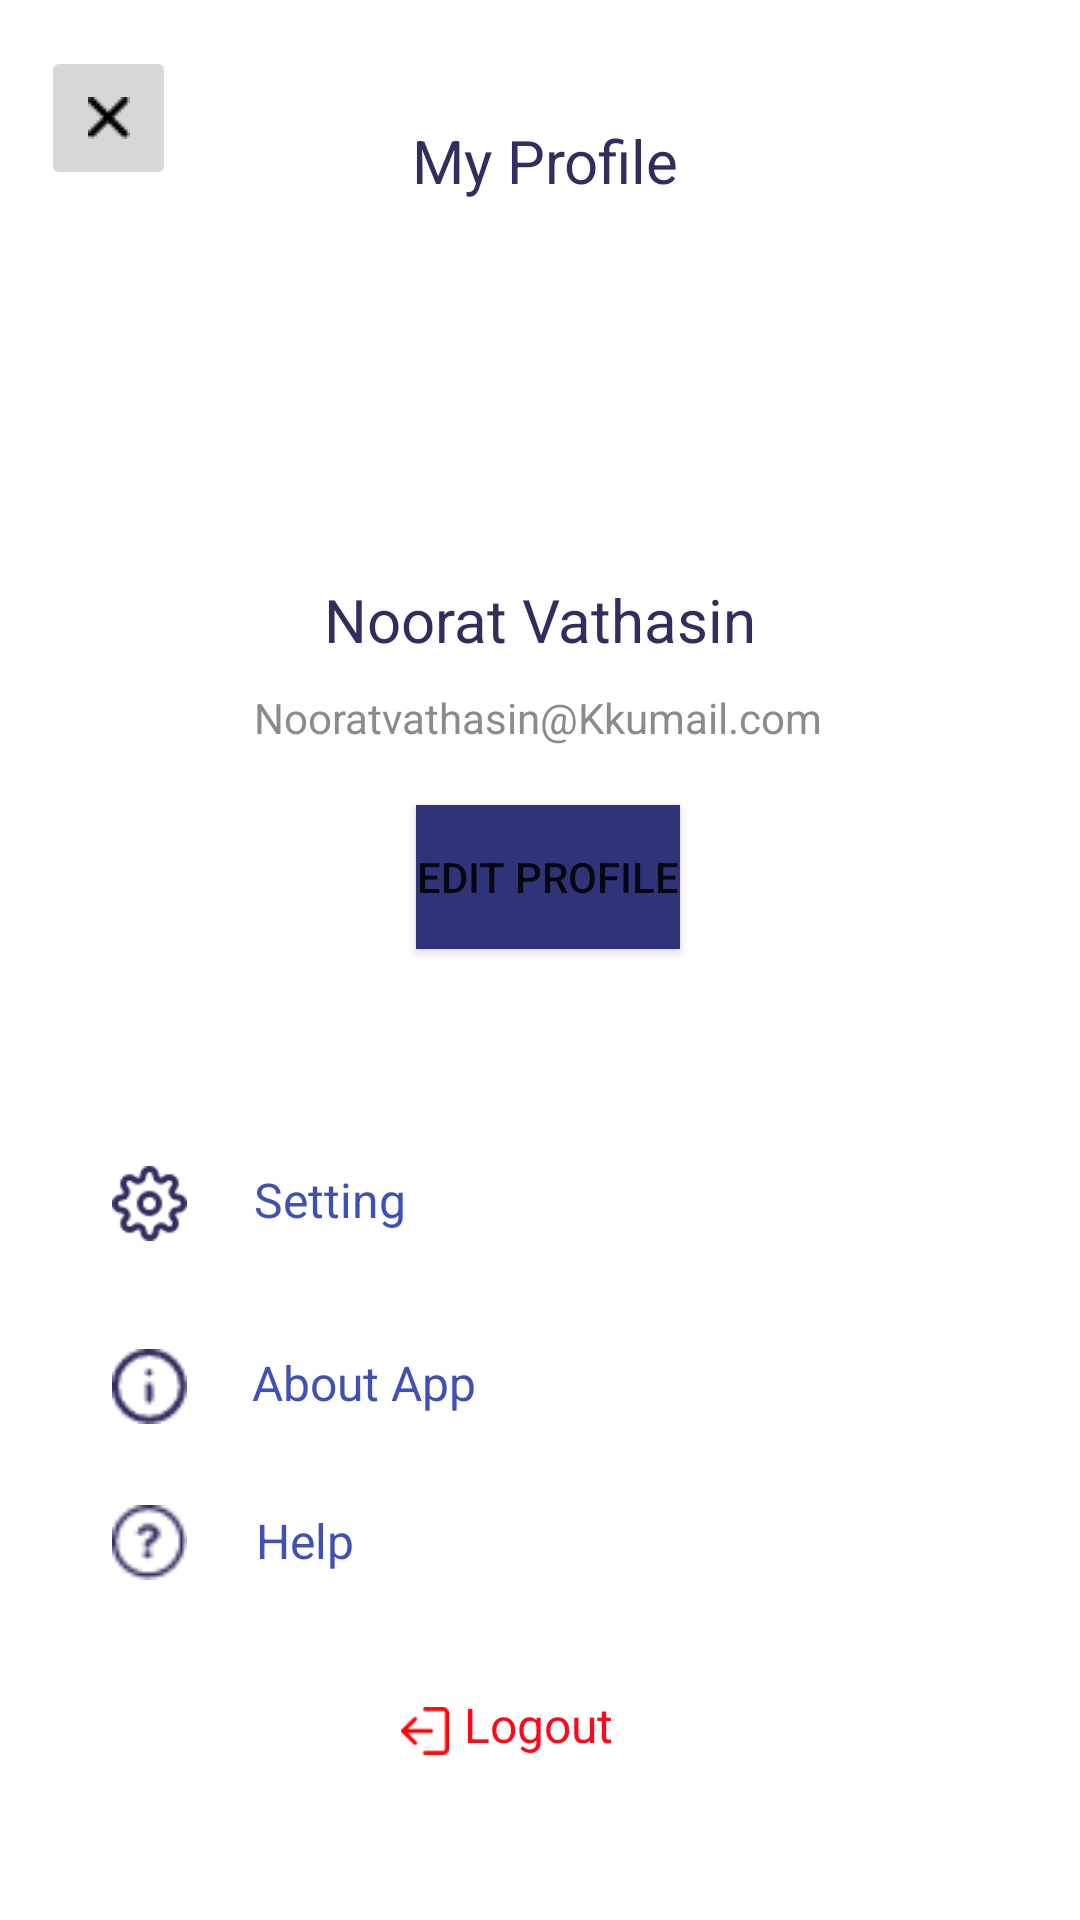

Where to tap for icons on this 1080*1920 app screen, as (x,y):
close: (108,118)
